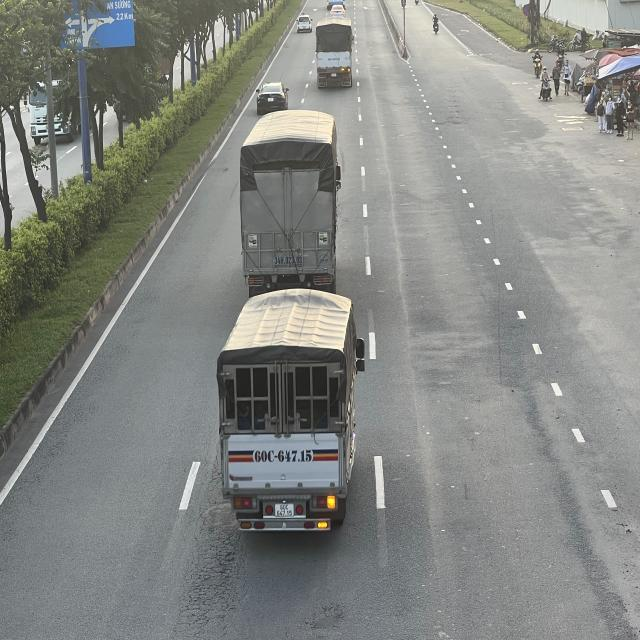car: (254, 80, 290, 113), (295, 13, 311, 33)
truck: (215, 292, 368, 541), (240, 113, 342, 296), (316, 15, 355, 89)
